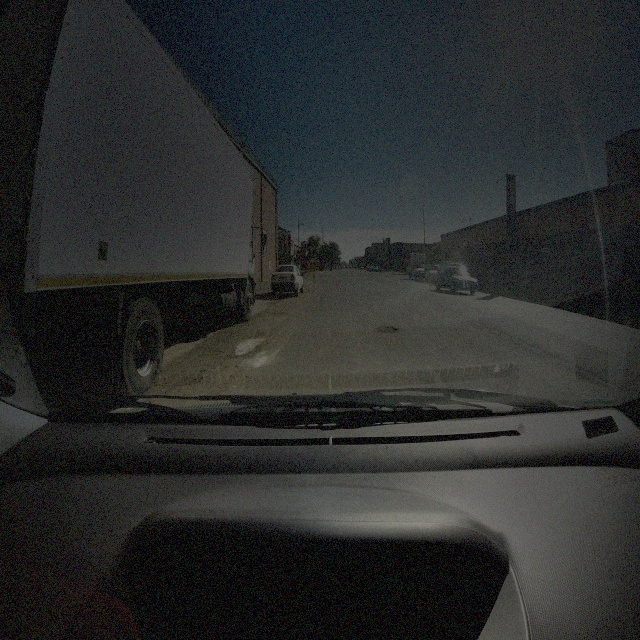pothole: (375, 324, 400, 335)
